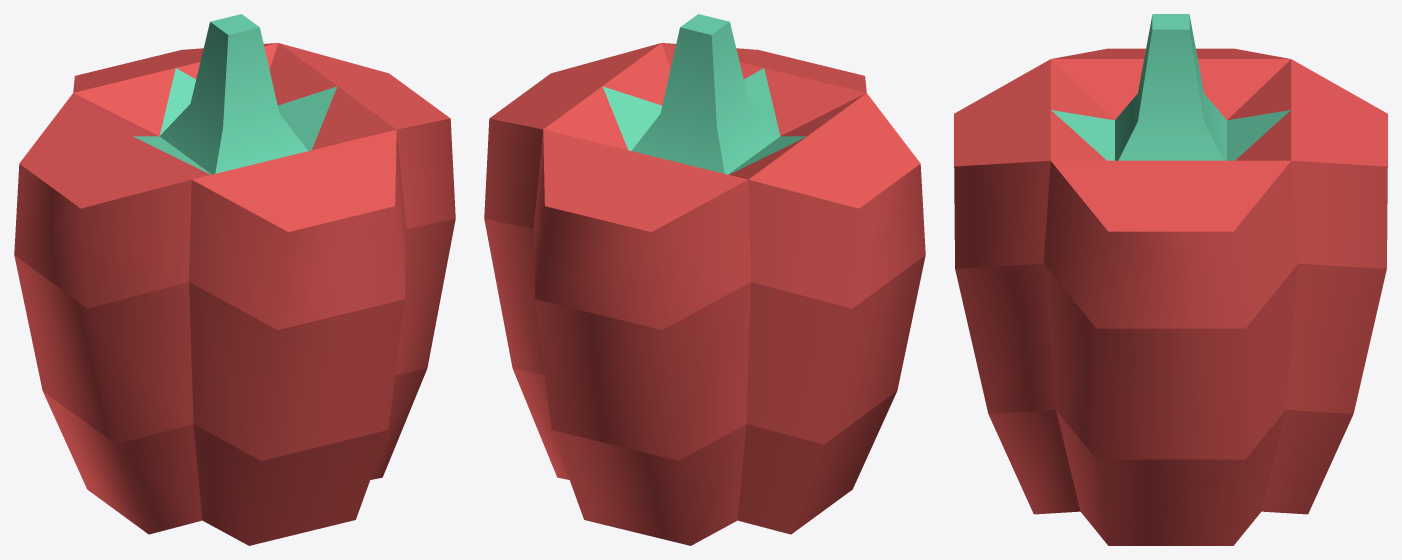
File: paprika.GLB
3 views of the same model, side by side, from view 1: azimuth 30°, elevation 25°; view 2: azimuth 150°, elevation 25°; view 3: azimuth 270°, elevation 25° (orthographic).
Visible parts, largest first — view 1: paprika; view 2: paprika; view 3: paprika.
Part boxes in pixels (x1,y1,x2,y2): paprika: [14, 14, 455, 545]; paprika: [484, 14, 925, 545]; paprika: [954, 14, 1387, 545].
Bounding box in the file's own units: 0.1681 × 0.1993 × 0.1681.
